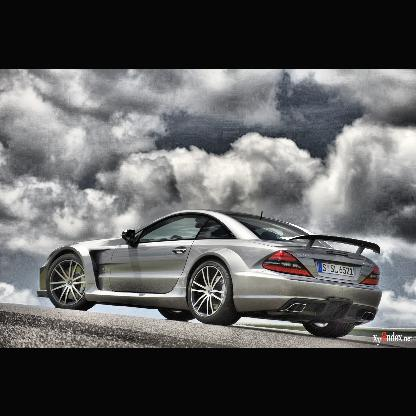Mercedes-Benz SL-Class Coupe 2009: (36, 206, 386, 339)
